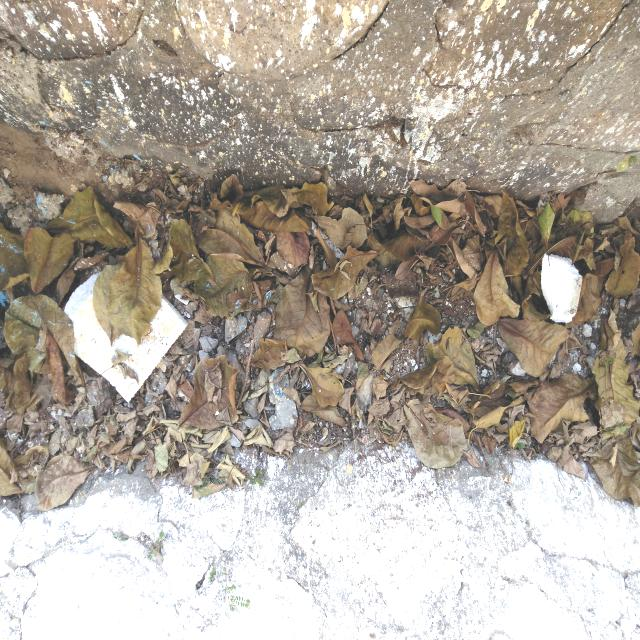Other carton: (269, 367, 289, 404)
Styrofoam piece: (64, 272, 188, 402), (541, 254, 582, 324)
